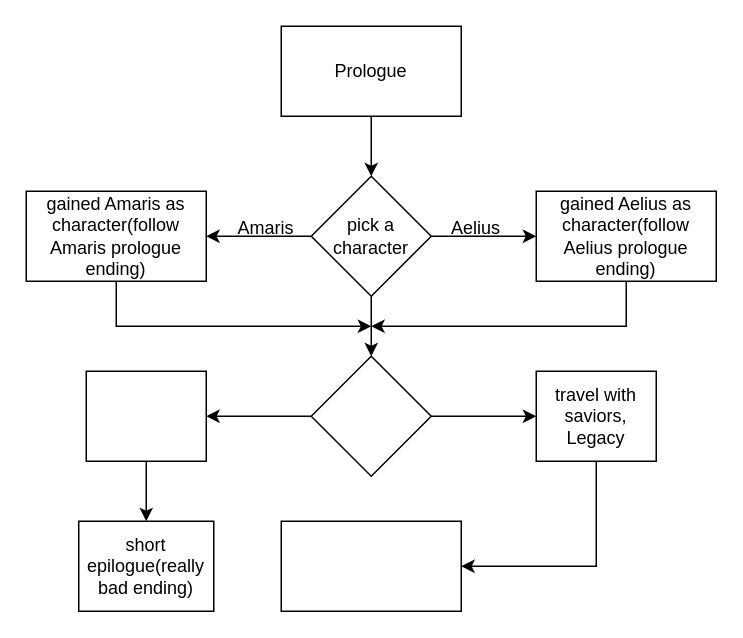
Some shapes in this 743 by 638 pixel diagram are drawn without their labels. Here are the shapes that lost their labels. From the top down, the centre of each, then its label:
At point 145,415: "travel alone".
At point 370,415: "Pick Path".
At point 370,565: "fight oblivion monsters(tutorial to battle)".
